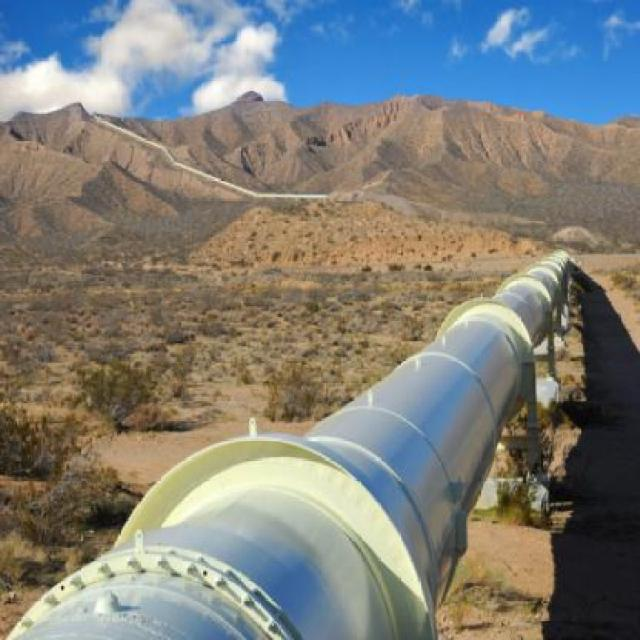gas: (5, 414, 481, 638), (339, 314, 543, 421), (493, 247, 595, 310), (91, 114, 172, 158), (171, 158, 254, 198), (250, 186, 332, 200)
